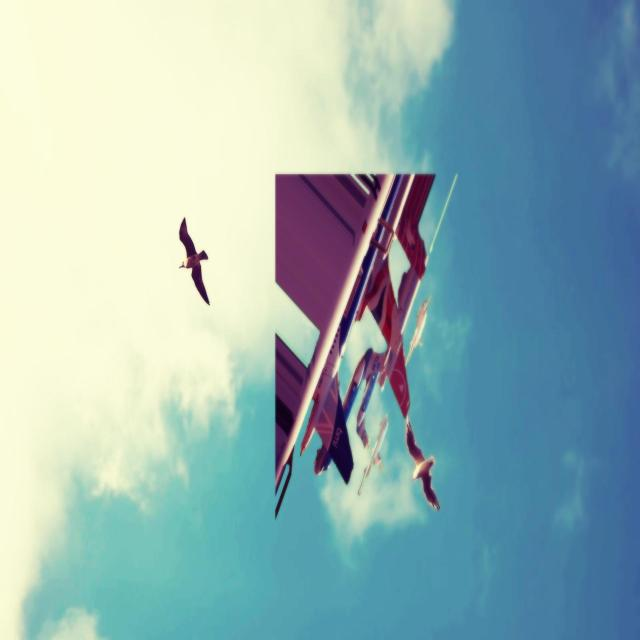airplane: (273, 170, 457, 519)
